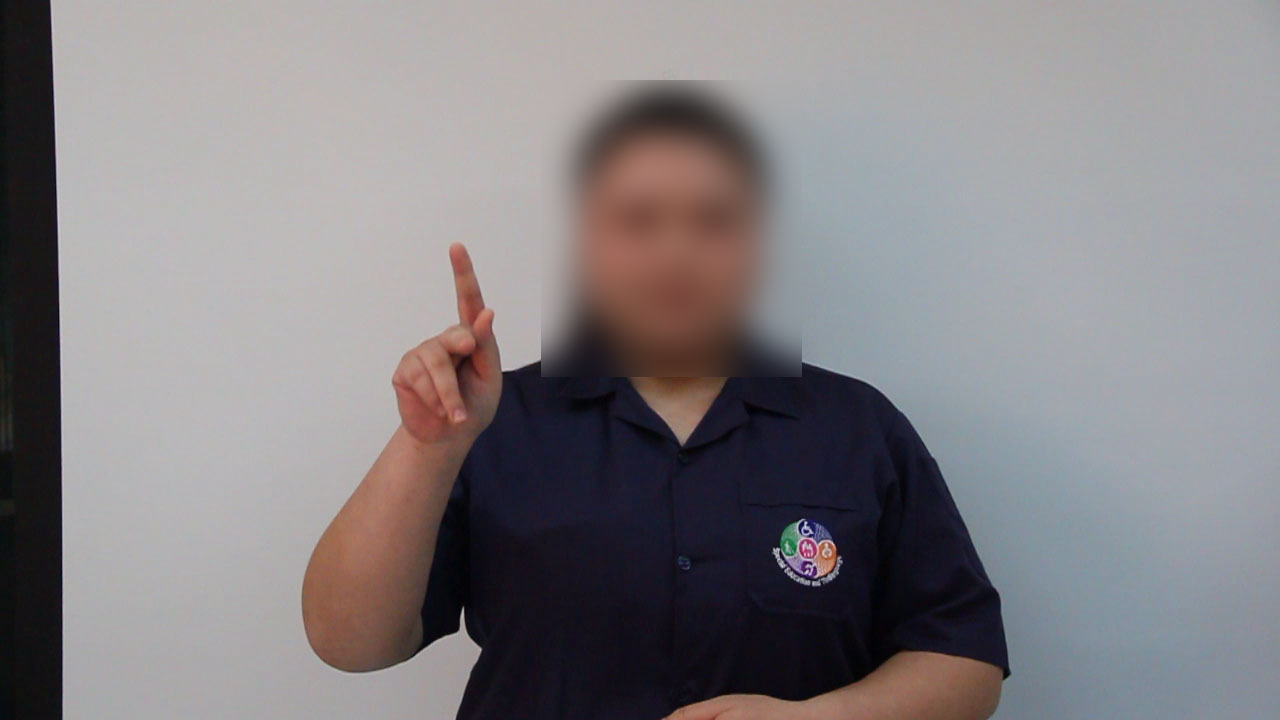ko: (367, 233, 535, 445)
